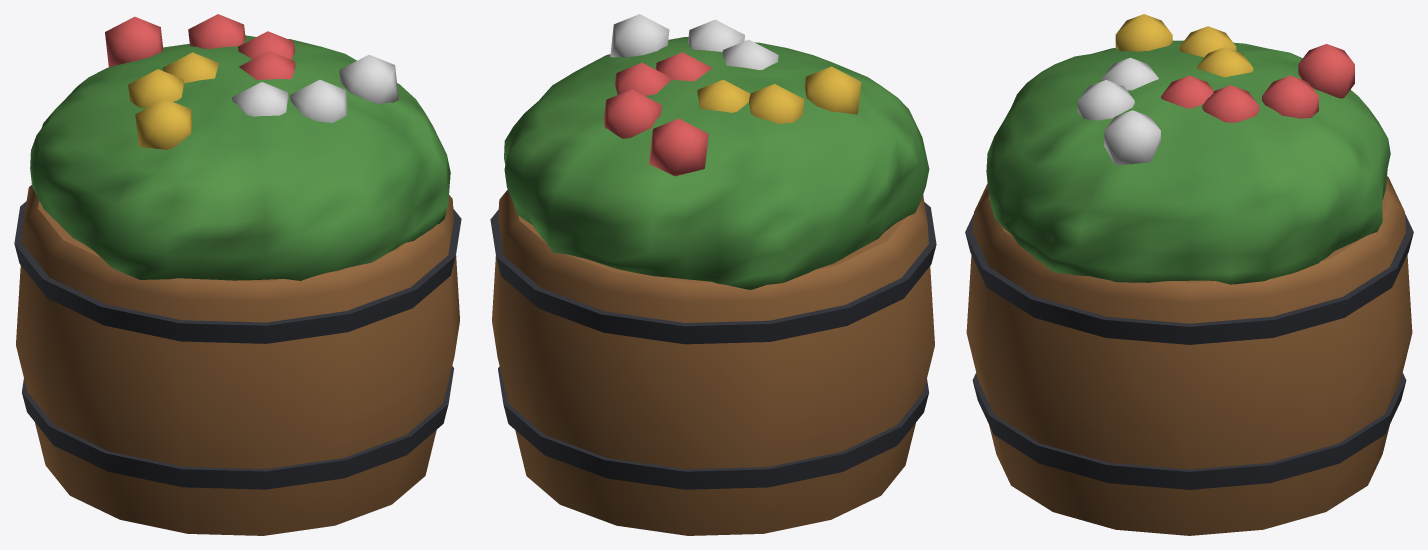
File: furn_od_barrel_planter.glb
3 renders of one model, left to right at view 1: azimuth 30°, elevation 25°; view 2: azimuth 150°, elevation 25°; view 3: azimuth 270°, elevation 25°, orthographic.
Parts seen in each view (by area): view 1: furn_od_barrel_planter_main; view 2: furn_od_barrel_planter_main; view 3: furn_od_barrel_planter_main.
Boxes of the visible parts, x1,y1,x2,y2 form: furn_od_barrel_planter_main: (14,14,461,535); furn_od_barrel_planter_main: (490,14,936,535); furn_od_barrel_planter_main: (965,14,1413,535).
Size of the model in its own units: 0.604 by 0.585 by 0.604.
